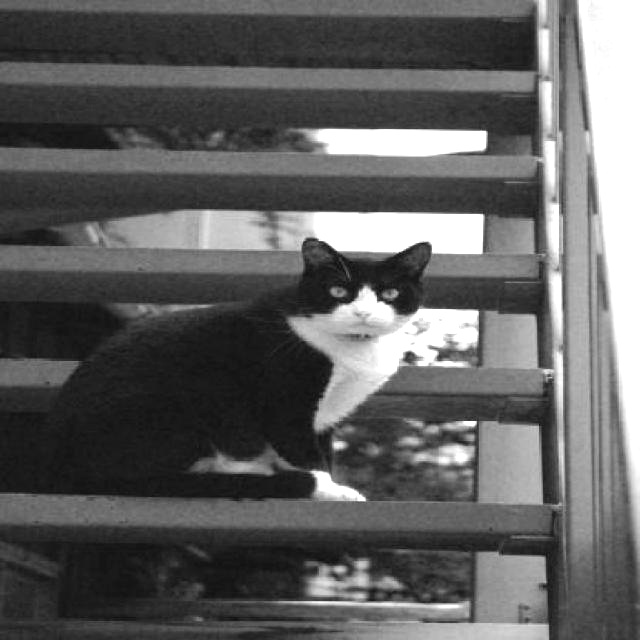stair: (0, 0, 589, 640)
